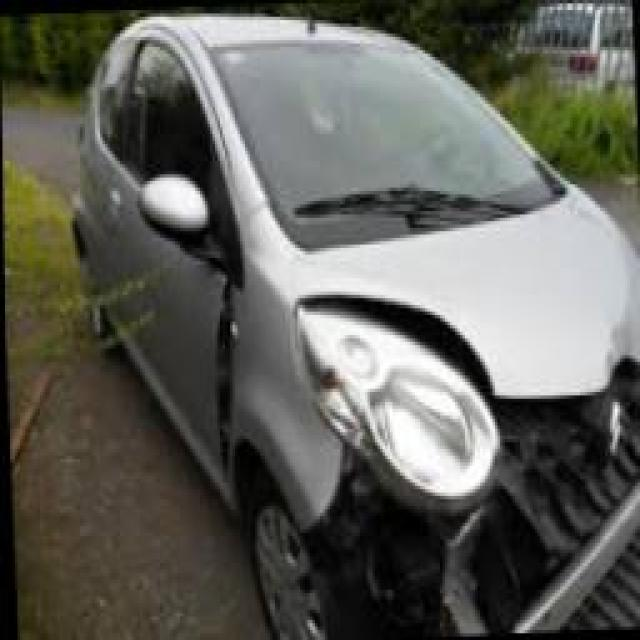Bonnet: (292, 274, 640, 445)
Bumper: (302, 405, 640, 635)
Door: (169, 246, 234, 484)
